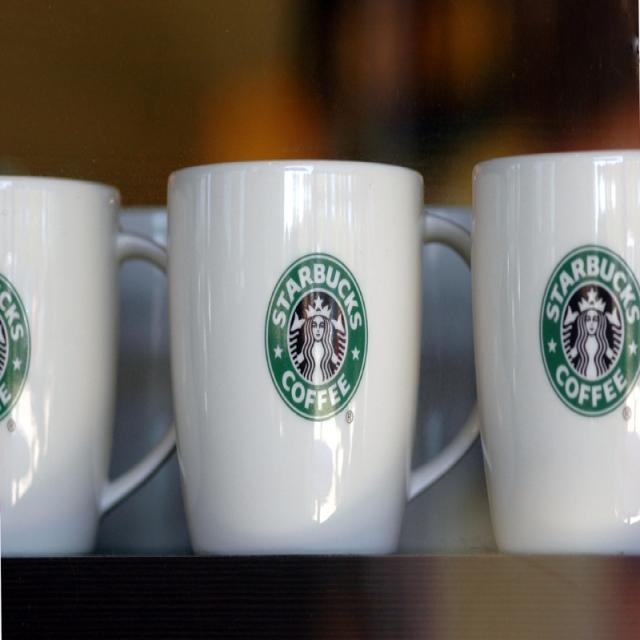starbucks: (265, 252, 370, 423), (541, 242, 640, 418), (2, 275, 31, 421)
